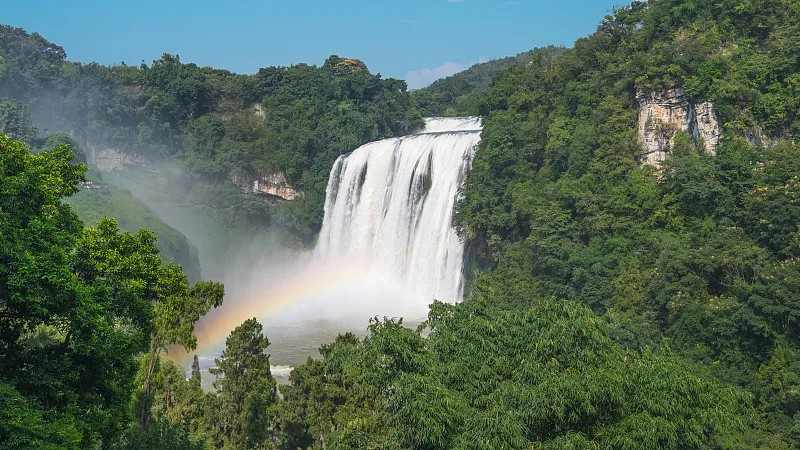Huangguoshu: (316, 115, 481, 306)
